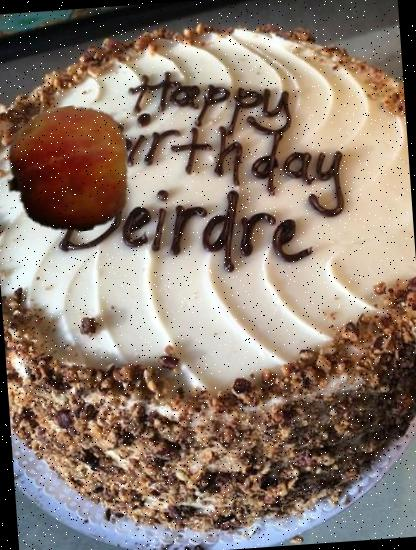Peach: (0, 102, 133, 236)
